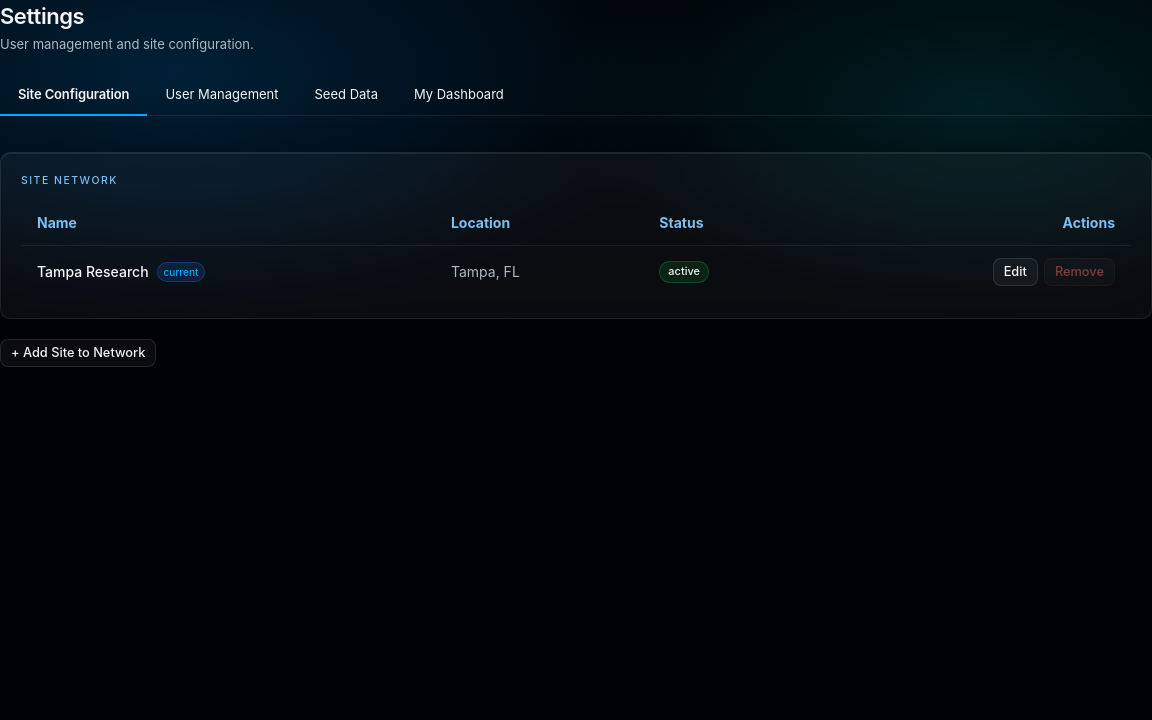
Test: Settings › opens edit dialog when user Edit is clicked
This screenshot has width=1152, height=720.
What coordinates should you click on to do the following:
click the tab "User Management"
I would click on:
 (222, 95)
Its box is [147,74,296,116].
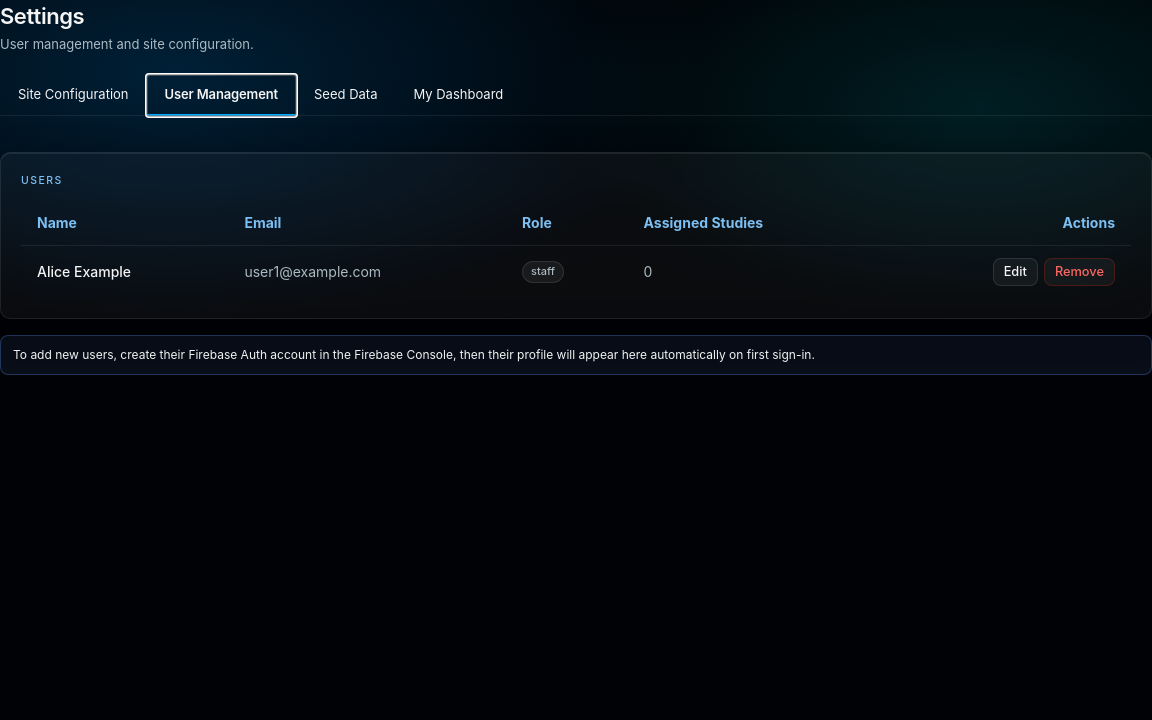
What coordinates should you click on to do the following:
click the button "Edit"
I would click on:
 (1015, 272)
Its box is [993,258,1038,286].
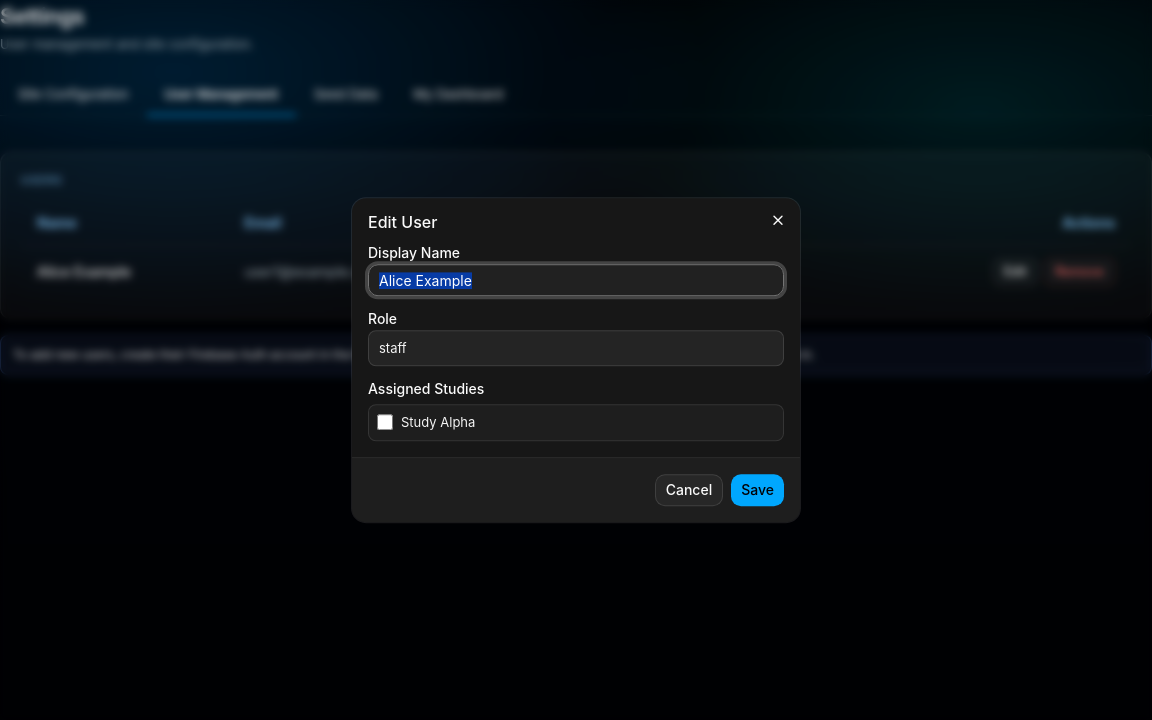
expect the dialog "Edit User" is shown: met, box [352,198,800,522]
expect the field labelled "Display Name" holds "Alice Example": met, box [368,264,784,296]
